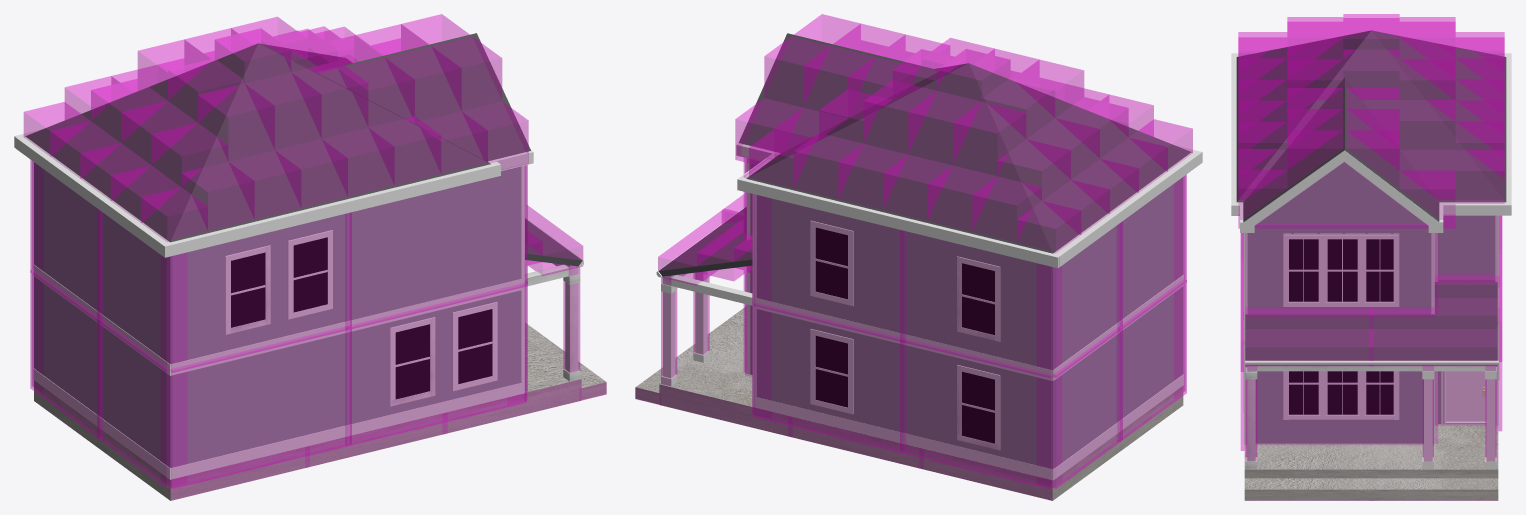
3 renders of one model, left to right at view 1: azimuth 30°, elevation 25°; view 2: azimuth 150°, elevation 25°; view 3: azimuth 270°, elevation 25°, orthographic. The views are drawn at different scales.
Parts seen in each view (by area): view 1: shell_main, roof_main, shell_wing, col_wall_right_01_ground, col_wall_right_01_upper, col_wall_right_02_ground, col_wall_right_02_upper, roof_wing_shingle_02, floor_ground, col_wall_back_02_ground, col_wall_back_02_upper, col_wall_back_01_ground (+55 smaller); view 2: shell_main, roof_main, col_wall_left_01_ground, col_wall_left_01_upper, col_wall_left_02_ground, col_wall_left_02_upper, floor_ground, roof_wing_shingle_01, col_wall_back_01_ground, col_wall_back_01_upper, col_wall_back_02_ground, col_wall_back_02_upper (+63 smaller); view 3: roof_main, col_wall_front_01_upper, shell_wing, roof_porch, col_wall_front_01_ground, floor_ground, floor_plinth, window_misc_upper_03, roof_wing_core, col_roof_39, col_roof_38, roof_wing_shingle_02 (+77 smaller).
Boxes of the visible parts, box(x1,y1,x2,y2) form: shell_main: box(34, 162, 351, 467); roof_main: box(26, 43, 490, 242); shell_wing: box(352, 166, 520, 423); col_wall_right_01_ground: box(161, 327, 351, 488); col_wall_right_01_upper: box(161, 212, 351, 372); col_wall_right_02_ground: box(345, 283, 526, 445); col_wall_right_02_upper: box(345, 165, 526, 329); roof_wing_shingle_02: box(318, 34, 530, 161); floor_ground: box(34, 338, 581, 500); col_wall_back_02_ground: box(97, 319, 186, 487); col_wall_back_02_upper: box(97, 208, 186, 371); col_wall_back_01_ground: box(30, 269, 102, 438); shell_main: box(756, 177, 1183, 469); roof_main: box(746, 63, 1191, 253); col_wall_left_01_ground: box(900, 339, 1061, 488); col_wall_left_01_upper: box(900, 230, 1061, 378); col_wall_left_02_ground: box(753, 303, 905, 453); col_wall_left_02_upper: box(753, 194, 905, 341); floor_ground: box(659, 321, 1183, 500); roof_wing_shingle_01: box(739, 33, 939, 152); col_wall_back_01_ground: box(1037, 327, 1122, 488); col_wall_back_01_upper: box(1037, 221, 1122, 377); col_wall_back_02_ground: box(1117, 279, 1186, 441); col_wall_back_02_upper: box(1117, 174, 1186, 328); roof_main: box(1236, 30, 1506, 202); col_wall_front_01_upper: box(1245, 224, 1433, 316); shell_wing: box(1247, 223, 1431, 443); roof_porch: box(1245, 280, 1497, 365); col_wall_front_01_ground: box(1245, 366, 1422, 444); floor_ground: box(1244, 424, 1498, 478); floor_plinth: box(1244, 478, 1498, 500); window_misc_upper_03: box(1289, 239, 1393, 301); roof_wing_core: box(1259, 163, 1424, 223); col_roof_39: box(1287, 130, 1342, 228); col_roof_38: box(1343, 130, 1399, 228); roof_wing_shingle_02: box(1243, 79, 1343, 222).
Bounding box in the file's own units: 369 × 290 × 215.
Materials: 8 (2 with a texture image).
